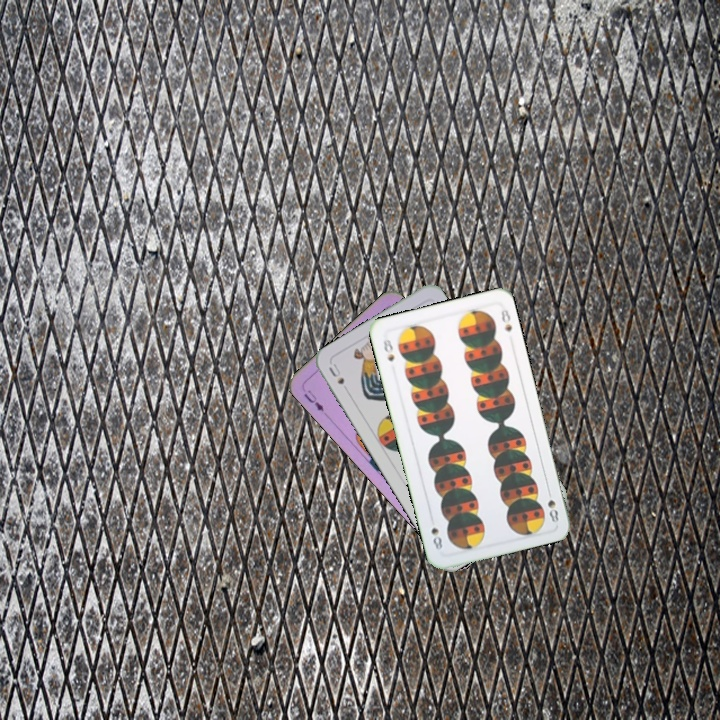EU: (299, 386, 327, 415)
S8: (543, 495, 561, 525), (379, 335, 397, 364)
SU: (325, 359, 347, 387)
